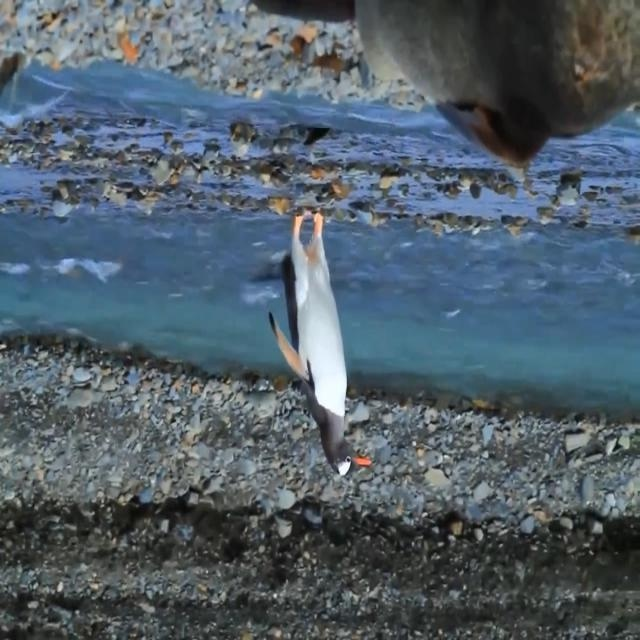penguin: (267, 208, 372, 476)
